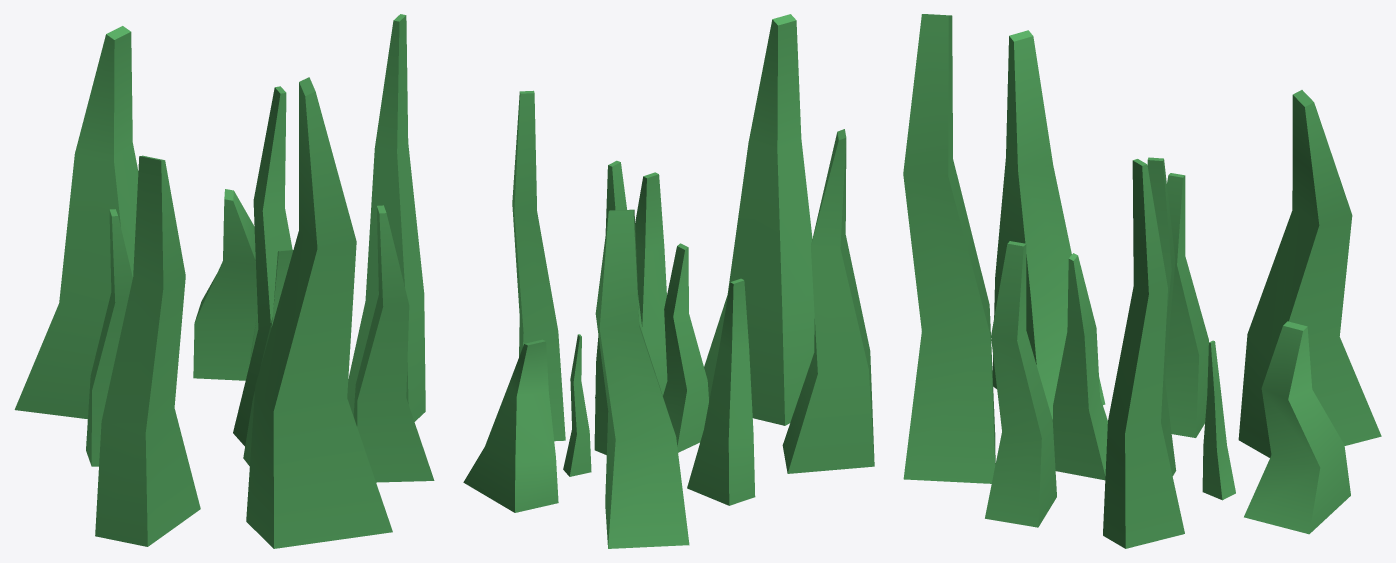
Rendered from High_Grass_001.fbx.
The picture shows the model from 3 angles, left to right: view 1: azimuth 30°, elevation 25°; view 2: azimuth 150°, elevation 25°; view 3: azimuth 270°, elevation 25°; orthographic projection. The views are drawn at different scales.
Parts seen in each view (by area): view 1: Grass; view 2: Grass; view 3: Grass.
Boxes of the visible parts, x1,y1,x2,y2 form: Grass: [14, 14, 434, 548]; Grass: [463, 14, 874, 548]; Grass: [903, 14, 1381, 548].
Size of the model in its own units: 36.09 by 41.55 by 41.37.
